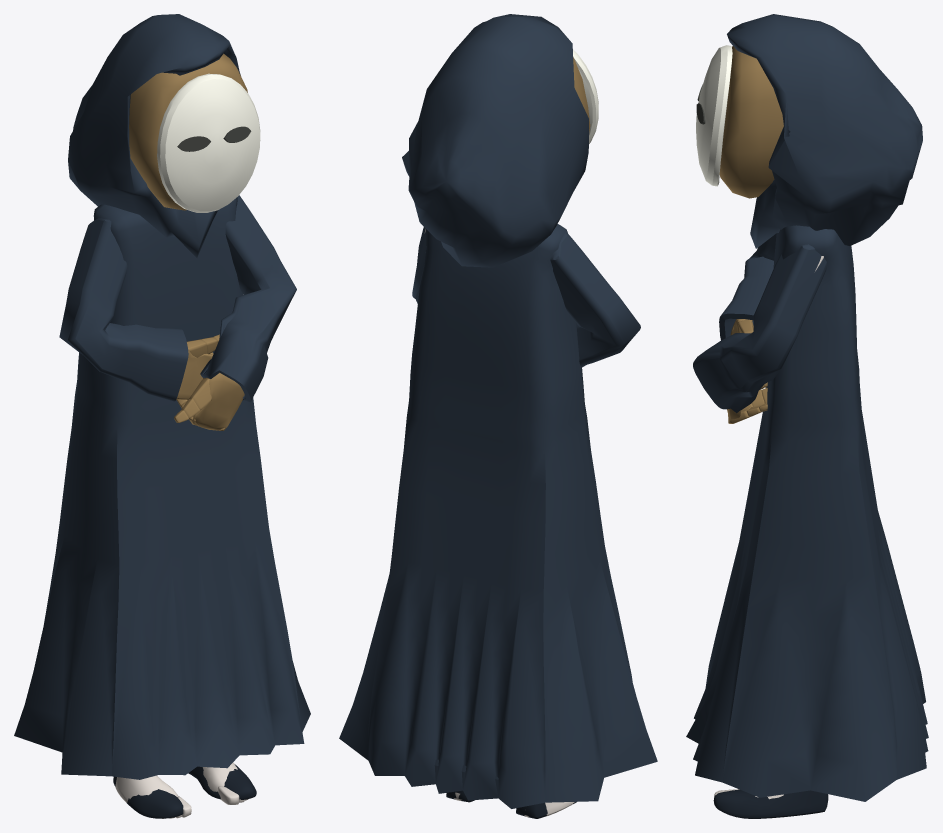
The model's file is Sagittarius.fbx.
3 views of the same model, side by side, from view 1: azimuth 30°, elevation 25°; view 2: azimuth 150°, elevation 25°; view 3: azimuth 270°, elevation 25° (orthographic).
Parts seen in each view (by area): view 1: polySurface3, Caputxa, polySurface8, màscara, polySurface9, head_geo, R_palm_R_geo (×2), foot_R_geo, foot_L_geo, foot_R_geo1; view 2: polySurface3, Caputxa, polySurface8, màscara; view 3: polySurface3, Caputxa, polySurface9, head_geo, màscara, foot_L_geo, polySurface8.
Part boxes in pixels (bbox=[...]): polySurface3: bbox=[14, 197, 310, 779]; Caputxa: bbox=[68, 14, 240, 257]; polySurface8: bbox=[59, 218, 188, 401]; màscara: bbox=[157, 73, 260, 212]; polySurface9: bbox=[200, 195, 296, 401]; head_geo: bbox=[129, 53, 247, 210]; R_palm_R_geo (×2): bbox=[176, 351, 244, 430]; foot_R_geo: bbox=[113, 776, 183, 818]; foot_L_geo: bbox=[188, 764, 256, 799]; foot_R_geo1: bbox=[115, 775, 178, 802]; polySurface3: bbox=[339, 224, 657, 808]; Caputxa: bbox=[402, 14, 588, 267]; polySurface8: bbox=[550, 232, 640, 367]; màscara: bbox=[573, 49, 598, 143]; polySurface3: bbox=[686, 225, 928, 801]; Caputxa: bbox=[727, 14, 922, 248]; polySurface9: bbox=[693, 244, 827, 413]; head_geo: bbox=[719, 46, 783, 198]; màscara: bbox=[696, 45, 732, 186]; foot_L_geo: bbox=[713, 789, 828, 818]; polySurface8: bbox=[719, 233, 776, 340].
Bounding box in the file's own units: 1.24 × 3.48 × 0.9859.
